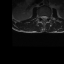CCS_normal: (43, 14, 45, 22)
LFS_normal: (47, 15, 49, 20)
LLS_normal: (45, 14, 47, 20)
RFS_normal: (39, 14, 41, 20)
RLS_normal: (41, 14, 43, 20)
